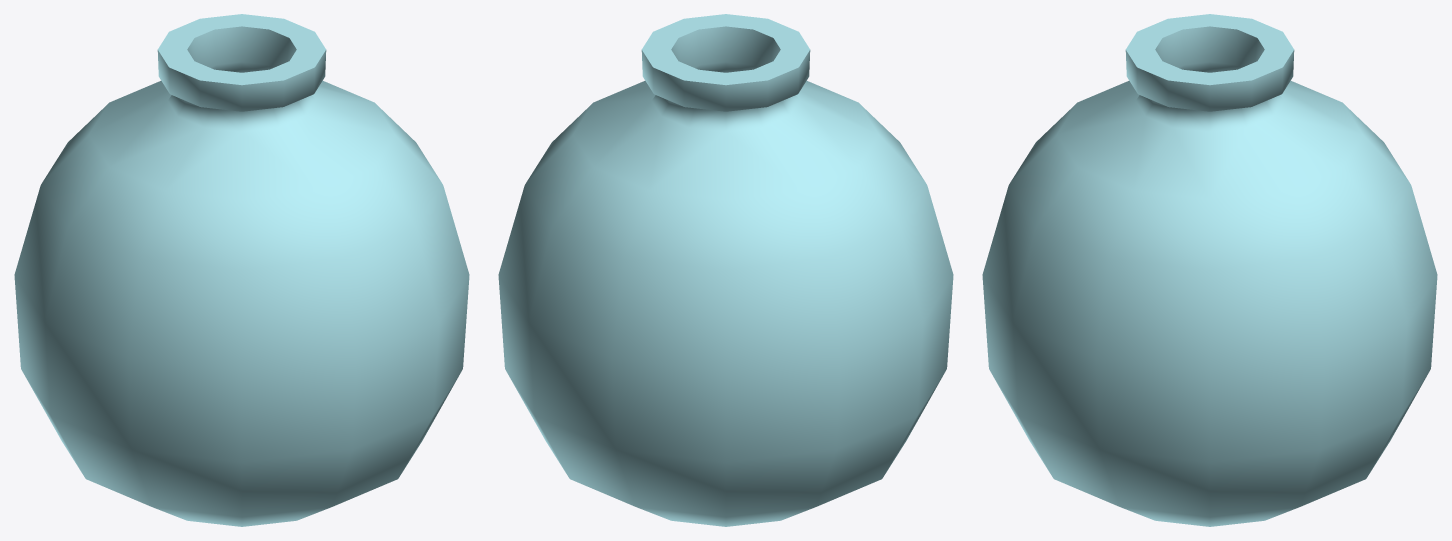
File: PotionBottleFilled1.fbx
3 views of the same model, side by side, from view 1: azimuth 30°, elevation 25°; view 2: azimuth 150°, elevation 25°; view 3: azimuth 270°, elevation 25° (orthographic).
Parts seen in each view (by area): view 1: PotionBottleFilled1; view 2: PotionBottleFilled1; view 3: PotionBottleFilled1.
Boxes of the visible parts, x1,y1,x2,y2 form: PotionBottleFilled1: (14, 14, 469, 526); PotionBottleFilled1: (498, 14, 953, 526); PotionBottleFilled1: (982, 14, 1437, 526).
Size of the model in its own units: 14.05 by 14.68 by 14.05.
